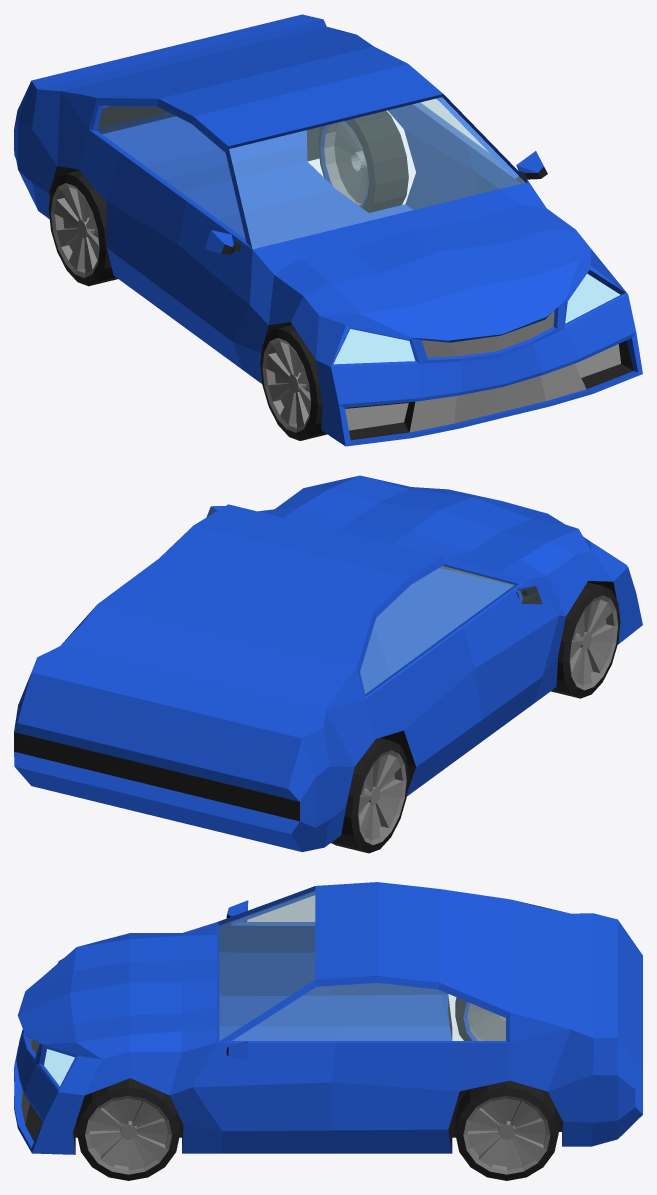
File: машина.glb
3 renders of one model, top to bottom at view 1: azimuth 30°, elevation 25°; view 2: azimuth 150°, elevation 25°; view 3: azimuth 270°, elevation 25°, orthographic. The views are drawn at different scales.
Visible parts, largest first — view 1: Cube; view 2: Cube; view 3: Cube.
Boxes of the visible parts, bbox=[...] form: Cube: bbox=[14, 14, 642, 446]; Cube: bbox=[14, 475, 642, 853]; Cube: bbox=[14, 882, 642, 1180].
Size of the model in its own units: 2.3 by 1.35 by 4.14.
